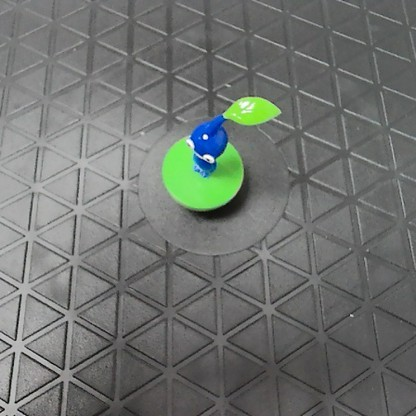leafairy: (157, 89, 284, 218)
